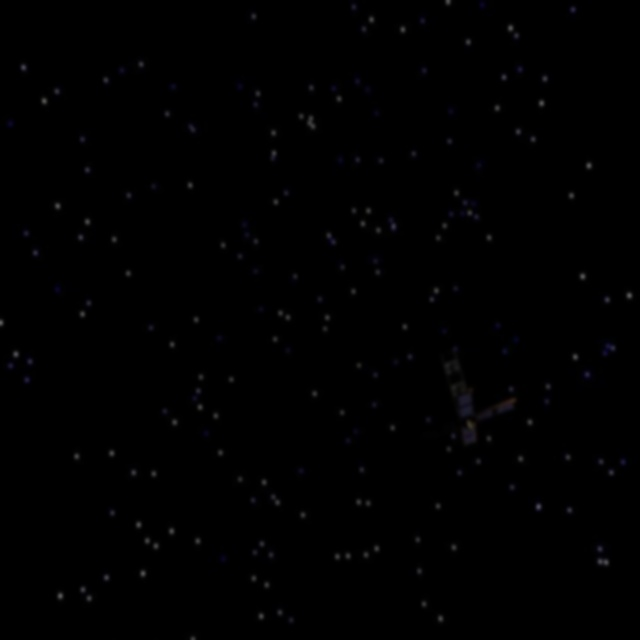medium_debris: (426, 336, 527, 460)
